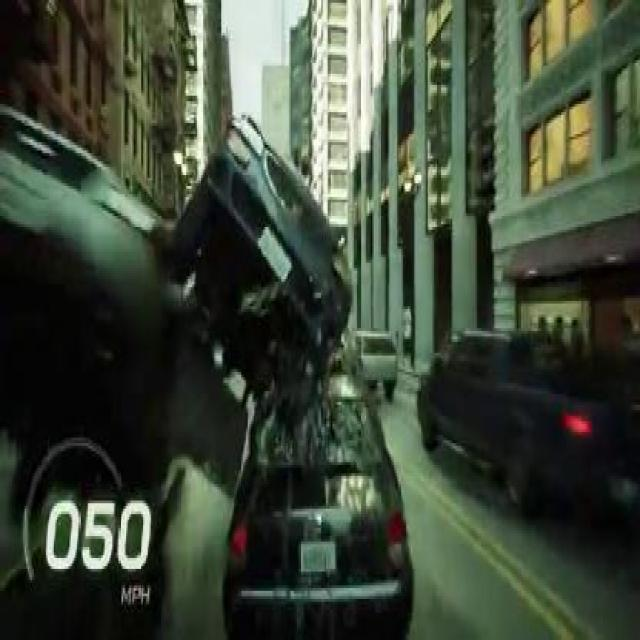accident: (2, 77, 360, 473), (167, 95, 409, 640)
